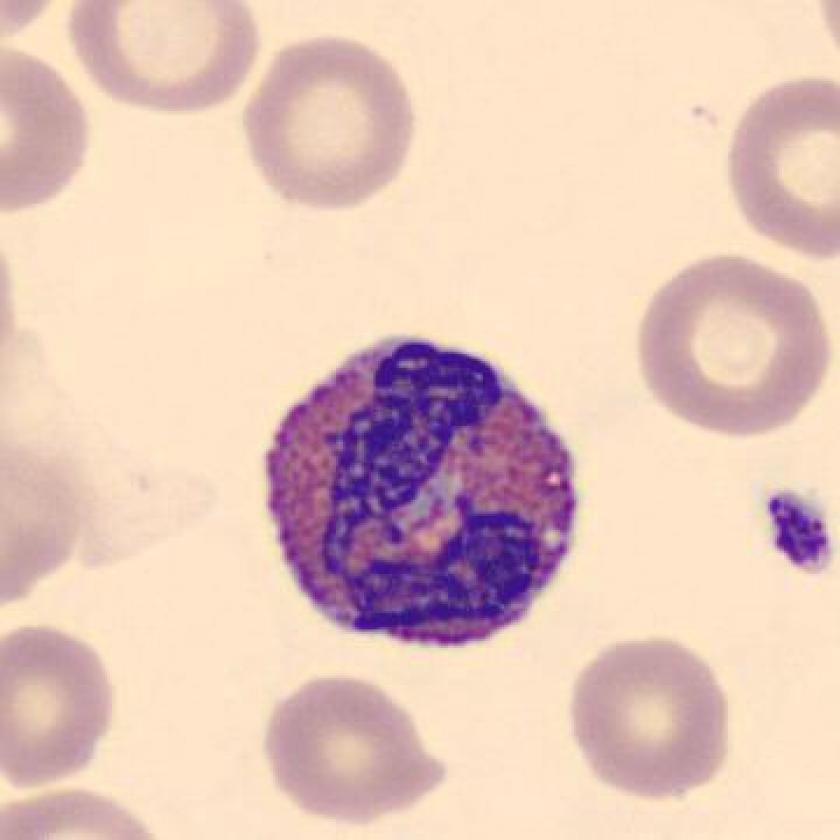eosinophil: (248, 311, 594, 663)
